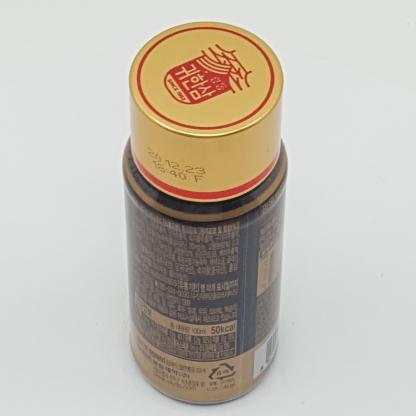-------100ml: (122, 20, 287, 405)
